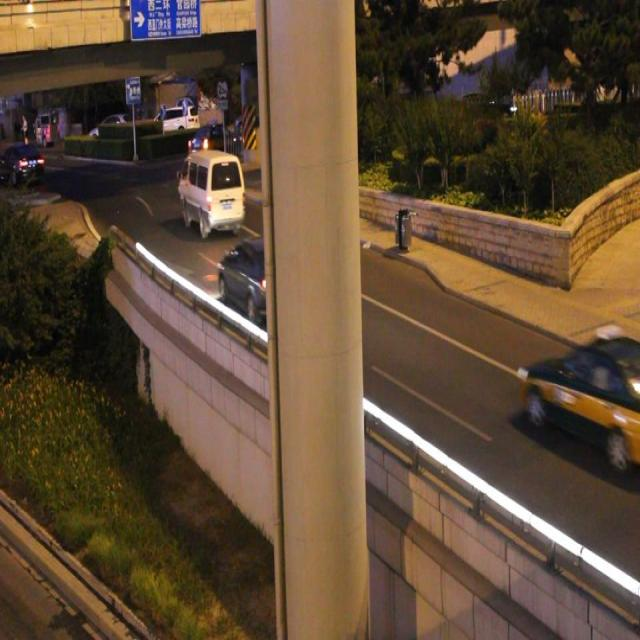car: (515, 322, 640, 470), (217, 235, 306, 329)
truck: (178, 150, 246, 234)
